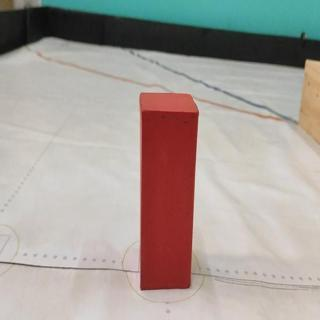redbox: (139, 91, 200, 293)
